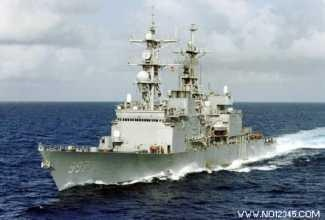warship: (38, 15, 276, 194)
